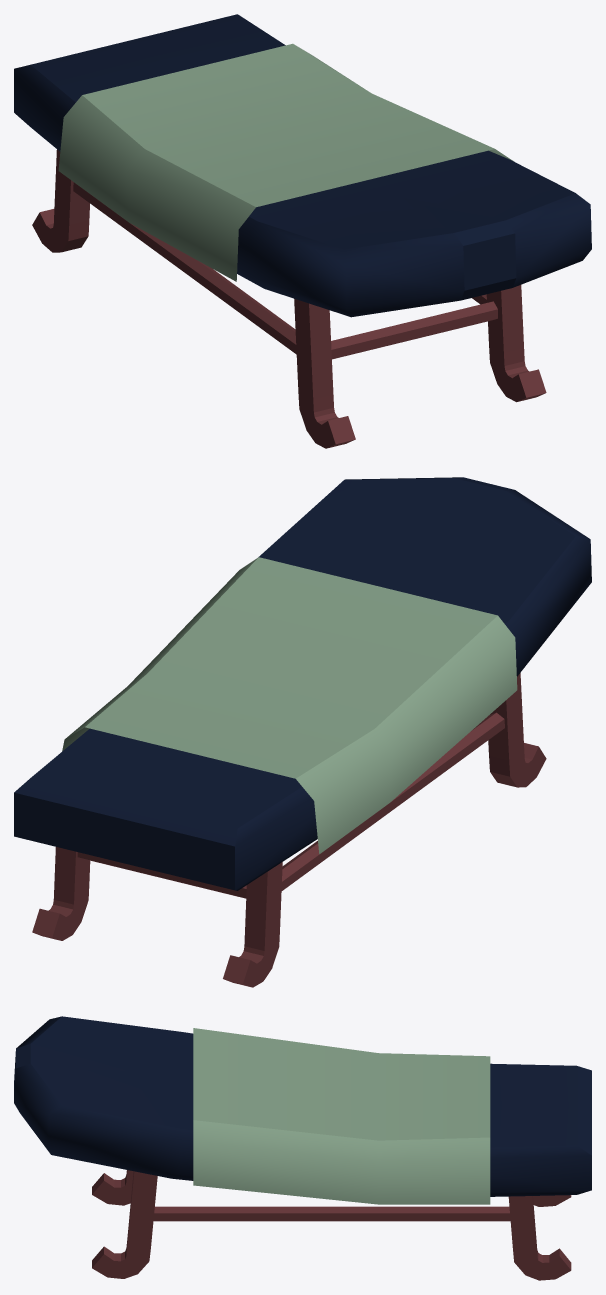
The model's file is bed.fbx.
The picture shows the model from 3 angles, top to bottom: view 1: azimuth 30°, elevation 25°; view 2: azimuth 150°, elevation 25°; view 3: azimuth 270°, elevation 25°; orthographic projection. The views are drawn at different scales.
Parts seen in each view (by area): view 1: clinic3; view 2: clinic3; view 3: clinic3.
Boxes of the visible parts, bbox=[...] form: clinic3: bbox=[14, 14, 591, 448]; clinic3: bbox=[14, 477, 591, 987]; clinic3: bbox=[14, 1016, 591, 1280].
Bounding box in the file's own units: 143 × 113 × 318.
